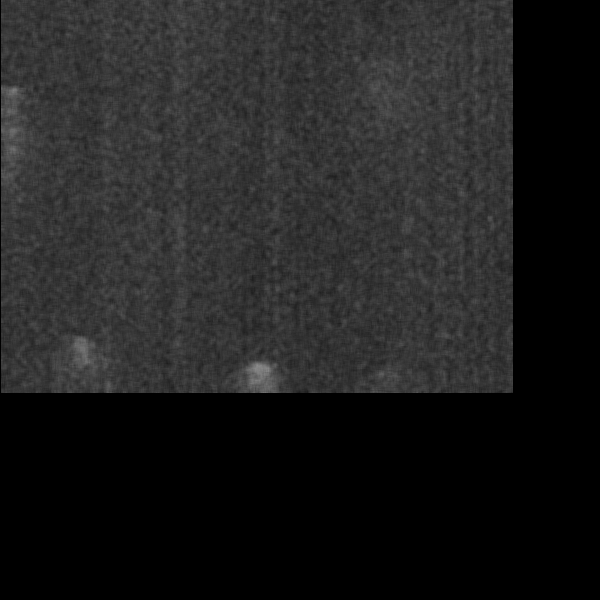spark: (66, 331, 95, 389), (241, 355, 281, 389), (1, 121, 21, 145), (1, 84, 25, 99), (507, 120, 518, 140)
